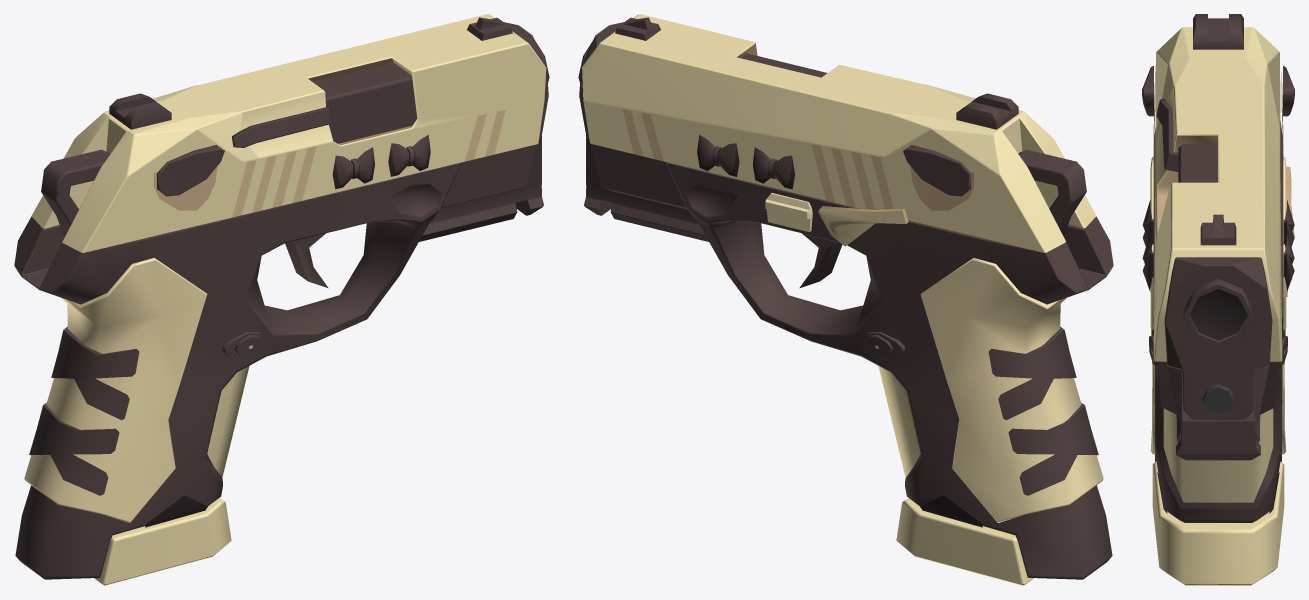
File: blue_archive_weapon_-_kinui_rena.glb
3 views of the same model, side by side, from view 1: azimuth 30°, elevation 25°; view 2: azimuth 150°, elevation 25°; view 3: azimuth 270°, elevation 25° (orthographic). The views are drawn at different scales.
Visible parts, largest first — view 1: OL_CH0305_Weapon_0; view 2: OL_CH0305_Weapon_0; view 3: OL_CH0305_Weapon_0.
Part boxes in pixels (bbox=[...]): OL_CH0305_Weapon_0: bbox=[14, 14, 549, 585]; OL_CH0305_Weapon_0: bbox=[578, 14, 1113, 585]; OL_CH0305_Weapon_0: bbox=[1142, 14, 1294, 585].
Bounding box in the file's own units: 0.1558 × 0.1323 × 0.0351.
1 material, 1 textured.
